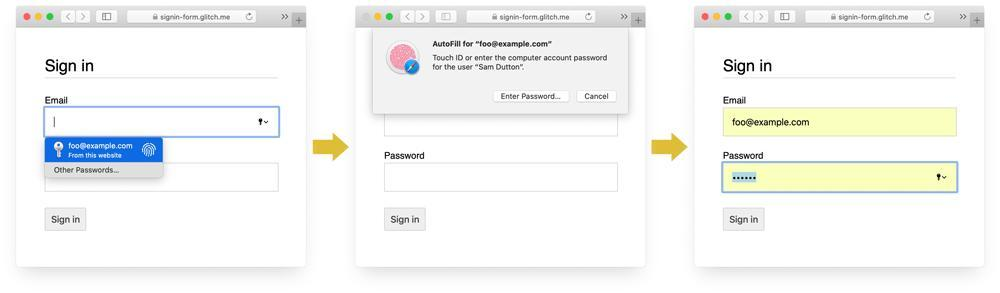button: (45, 138, 165, 163), (494, 90, 571, 104), (46, 208, 88, 232), (724, 209, 766, 232), (386, 209, 427, 232), (576, 90, 618, 104)
icon: (436, 11, 458, 24), (776, 10, 796, 24), (142, 143, 158, 158), (293, 14, 308, 29), (632, 13, 647, 28), (400, 11, 416, 25), (97, 12, 117, 23), (258, 116, 272, 130), (972, 13, 985, 28), (54, 142, 65, 159), (62, 12, 76, 24), (741, 12, 755, 24), (417, 11, 429, 24), (756, 11, 768, 24), (922, 11, 935, 23), (78, 12, 90, 24), (246, 12, 257, 24), (585, 12, 596, 23), (619, 13, 630, 22), (958, 12, 967, 23), (280, 14, 289, 22)
input: (722, 162, 960, 195), (44, 107, 282, 139), (385, 162, 621, 194), (723, 107, 960, 138)
label: (432, 39, 556, 51), (723, 55, 773, 77), (46, 57, 96, 76), (722, 149, 767, 161), (384, 152, 427, 161), (43, 96, 71, 105), (722, 97, 749, 106)
